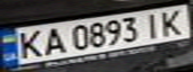0: (66, 21, 90, 51)
3: (118, 14, 142, 43)
8: (87, 19, 109, 48)
9: (103, 17, 127, 46)
A: (36, 25, 69, 56)
I: (139, 10, 166, 38)
K: (9, 27, 48, 61), (154, 6, 193, 36)
